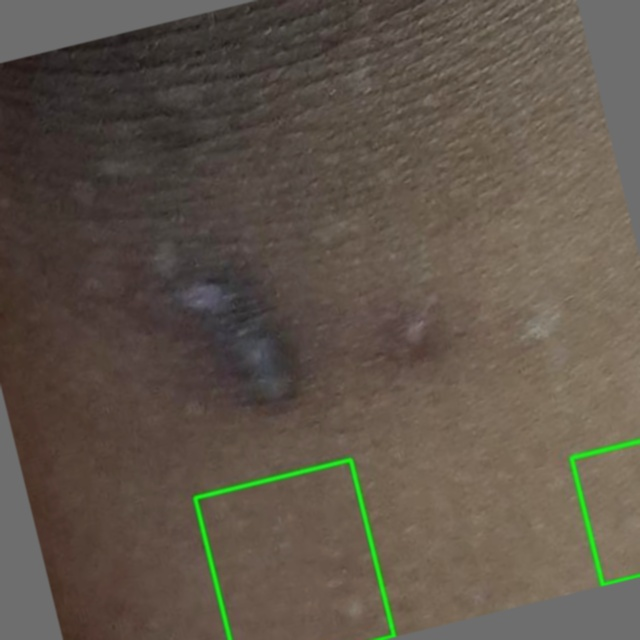Scabies: (195, 459, 393, 639)
